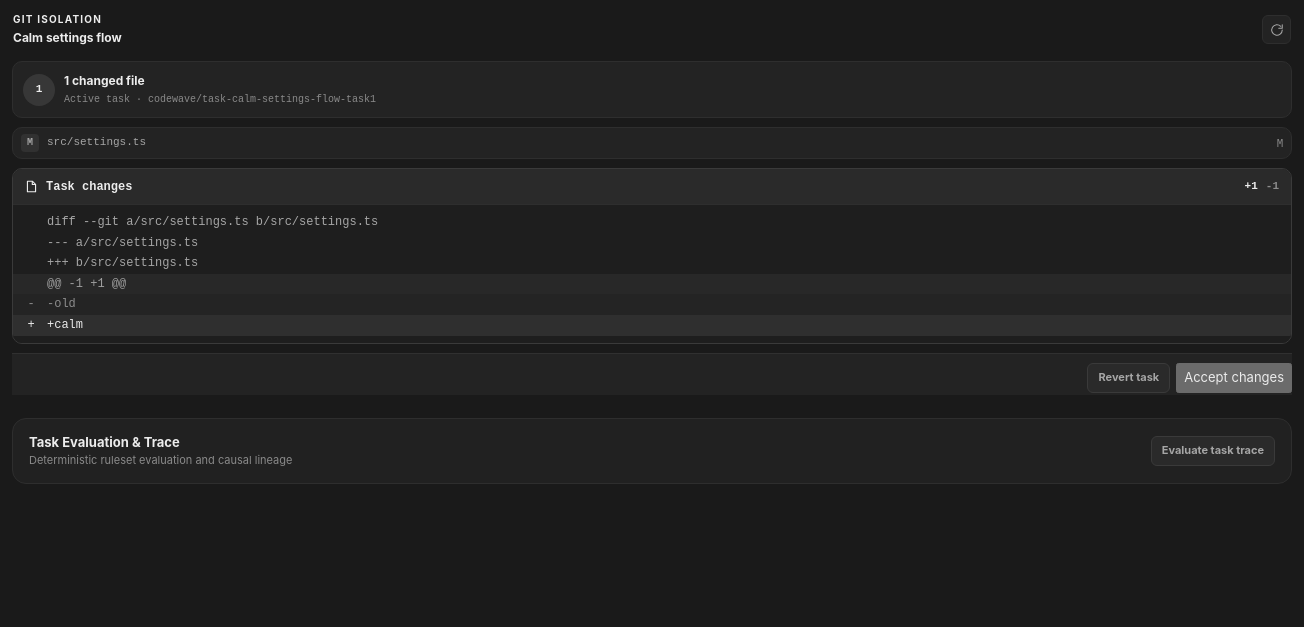
Test: ProjectChangesPanel task trace evaluation › loads and renders the deterministic trace evaluation on demand
The image size is (1304, 627).
Expected: the text "1 changed file" is shown, [64,73,145,88]
Expected: the text "UNDECIDED" is not shown
Click the button "Evaluate task trace" at (1213,451), box [1151,436,1275,466]
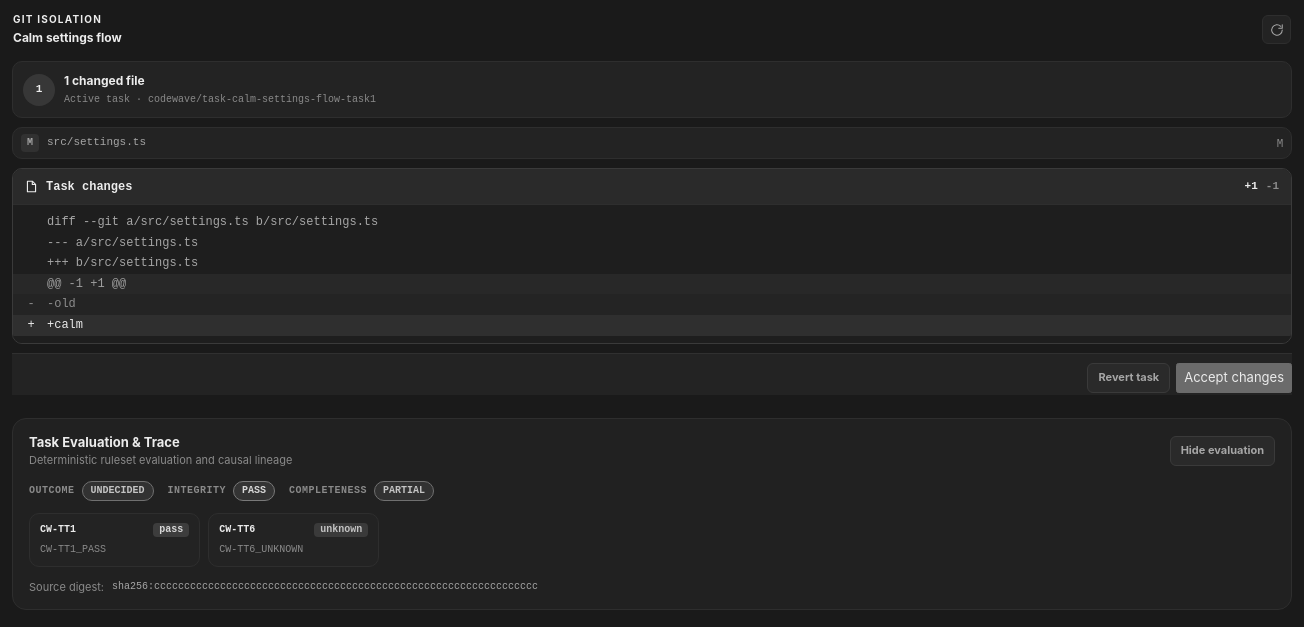
Now the text "UNDECIDED" is shown, box [82,481,154,501]
Now the text "Integrity" is shown, box [168,486,226,496]
Now the text "PASS" is shown, box [233,481,275,501]
Click the button "Hide evaluation" at (1222,451), box [1170,436,1275,466]
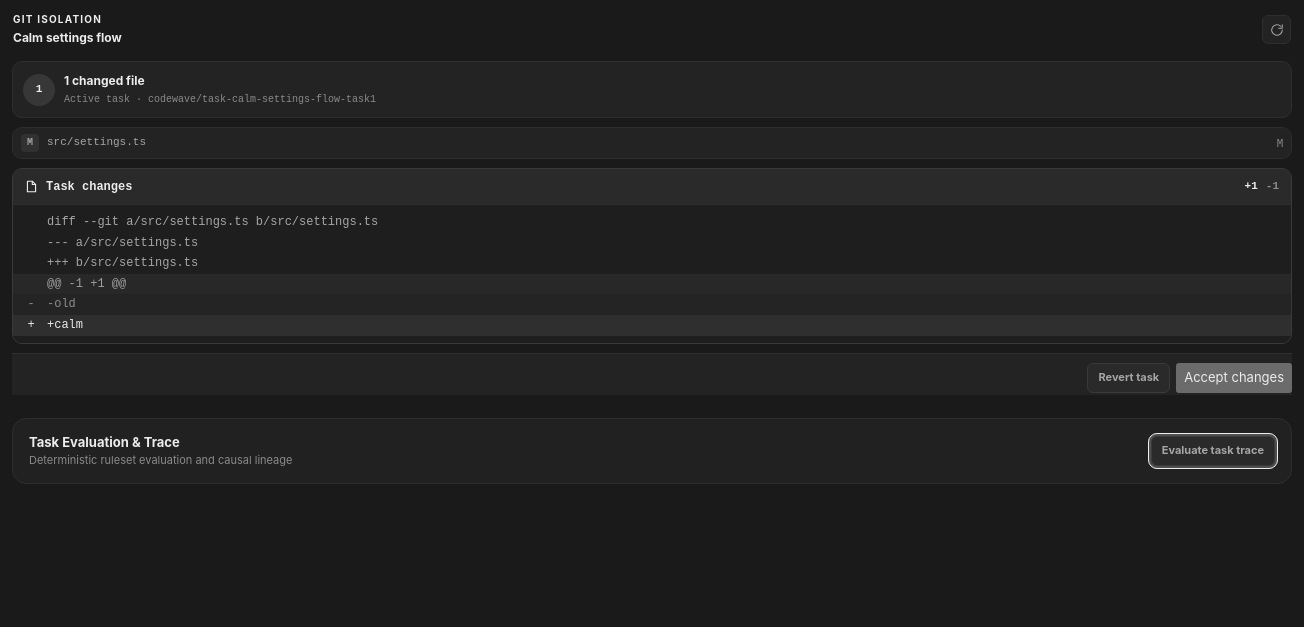
Now the text "UNDECIDED" is gone
